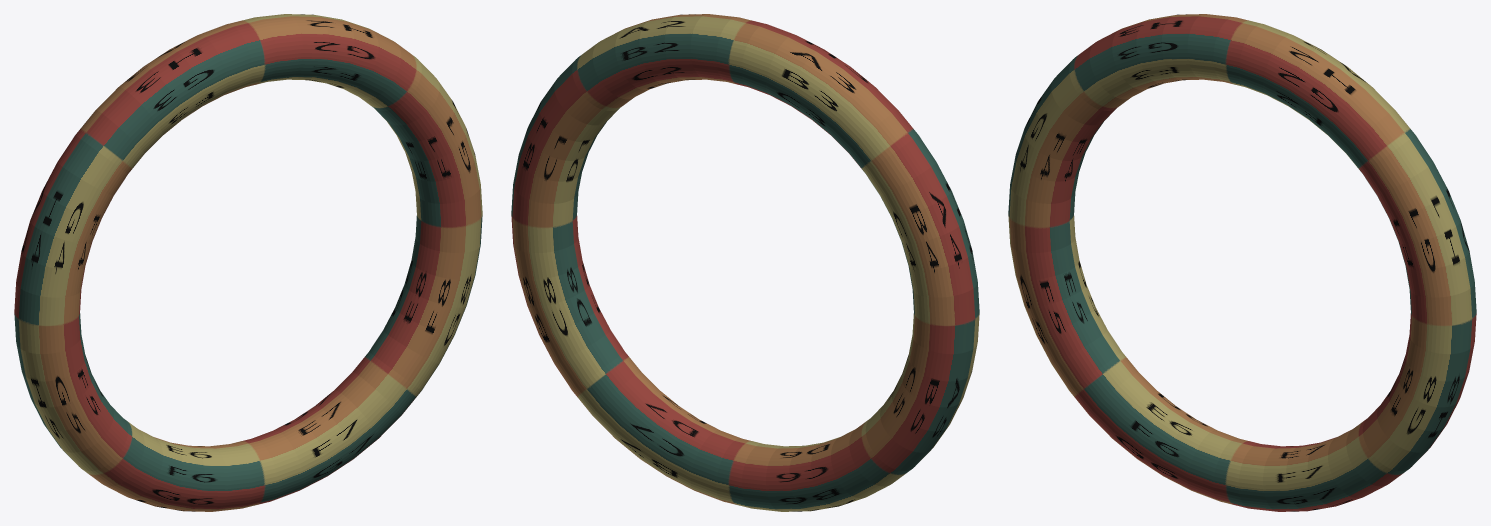
File: texture_torus_R26_r7.glb
3 renders of one model, left to right at view 1: azimuth 30°, elevation 25°; view 2: azimuth 150°, elevation 25°; view 3: azimuth 330°, elevation 25°, orthographic.
Visible parts, largest first — view 1: world; view 2: world; view 3: world.
Boxes of the visible parts, x1,y1,x2,y2 form: world: (14,14,482,511); world: (511,14,979,511); world: (1008,14,1476,511).
Size of the model in its own units: 31.2 by 31.14 by 3.86.
1 material, 1 textured.
